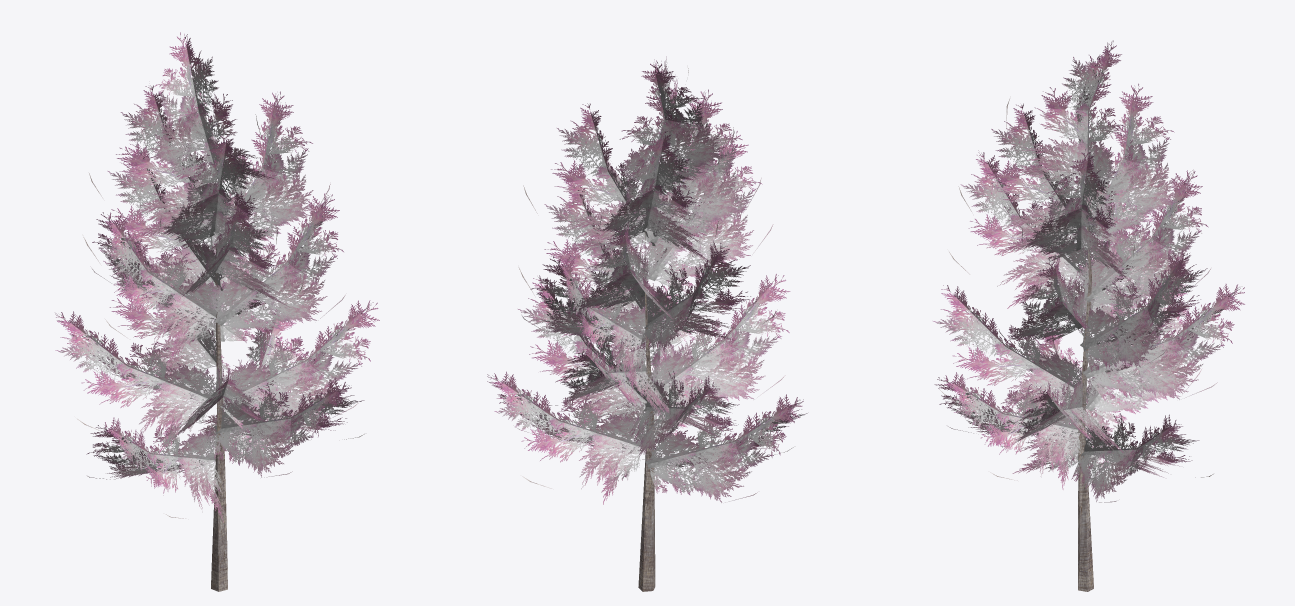
Rendered from VEG0210049.fbx.
3 views of the same model, side by side, from view 1: azimuth 30°, elevation 25°; view 2: azimuth 150°, elevation 25°; view 3: azimuth 270°, elevation 25° (orthographic). The views are drawn at different scales.
Visible parts, largest first — view 1: smVEG0210049; view 2: smVEG0210049; view 3: smVEG0210049.
Part boxes in pixels (x1,y1,x2,y2): smVEG0210049: [55, 32, 379, 591]; smVEG0210049: [487, 56, 807, 591]; smVEG0210049: [933, 40, 1244, 591].
Size of the model in its own units: 523 by 789 by 517.
Materials: 1 (1 with a texture image).
